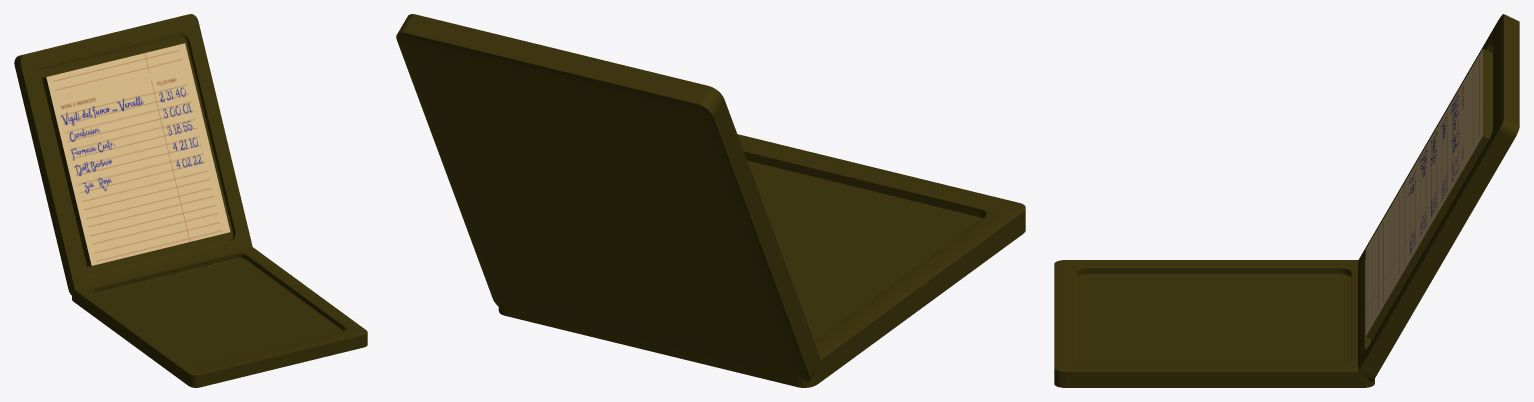
The model's file is rubrica-past.glb.
The picture shows the model from 3 angles, left to right: view 1: azimuth 30°, elevation 25°; view 2: azimuth 150°, elevation 25°; view 3: azimuth 270°, elevation 25°; orthographic projection. The views are drawn at different scales.
Visible parts, largest first — view 1: rubrica-past; view 2: rubrica-past; view 3: rubrica-past.
Part boxes in pixels (<box>): rubrica-past: <box>14,14,367,387</box>; rubrica-past: <box>396,14,1025,387</box>; rubrica-past: <box>1054,14,1519,387</box>.
Bounding box in the file's own units: 1.27 × 1.41 × 2.24.
Materials: 2 (1 with a texture image).
